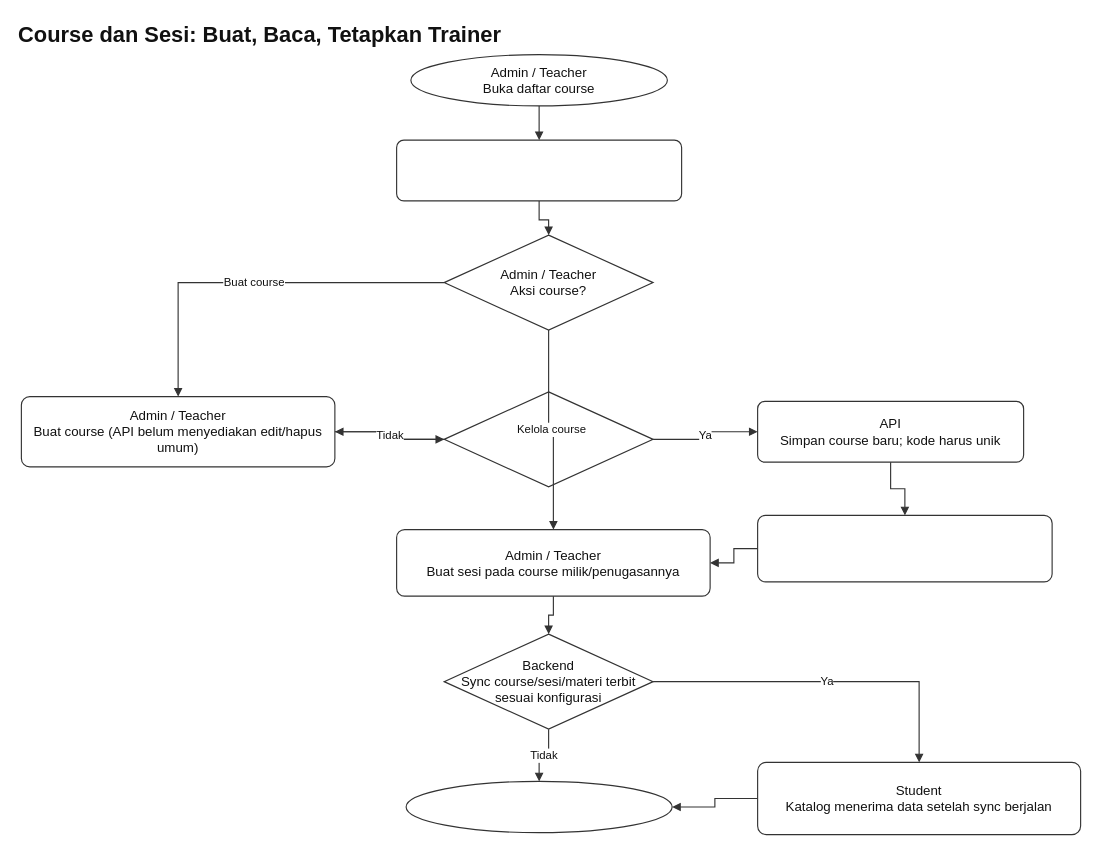
Some shapes in this 1097 by 851 pixel diagram are drawn without their labels. The box of each missing label's shape, as (x1, y1, x2, y2) in pixels:
Admin Tetapkan atau ubah trainer aktif: (757, 514, 1052, 582)
API Data course valid?: (443, 391, 653, 487)
API Muat course dan detail sesi: (396, 139, 682, 201)
Selesai Course/sesi tersedia; materi tetap melalui approval: (405, 780, 672, 833)
